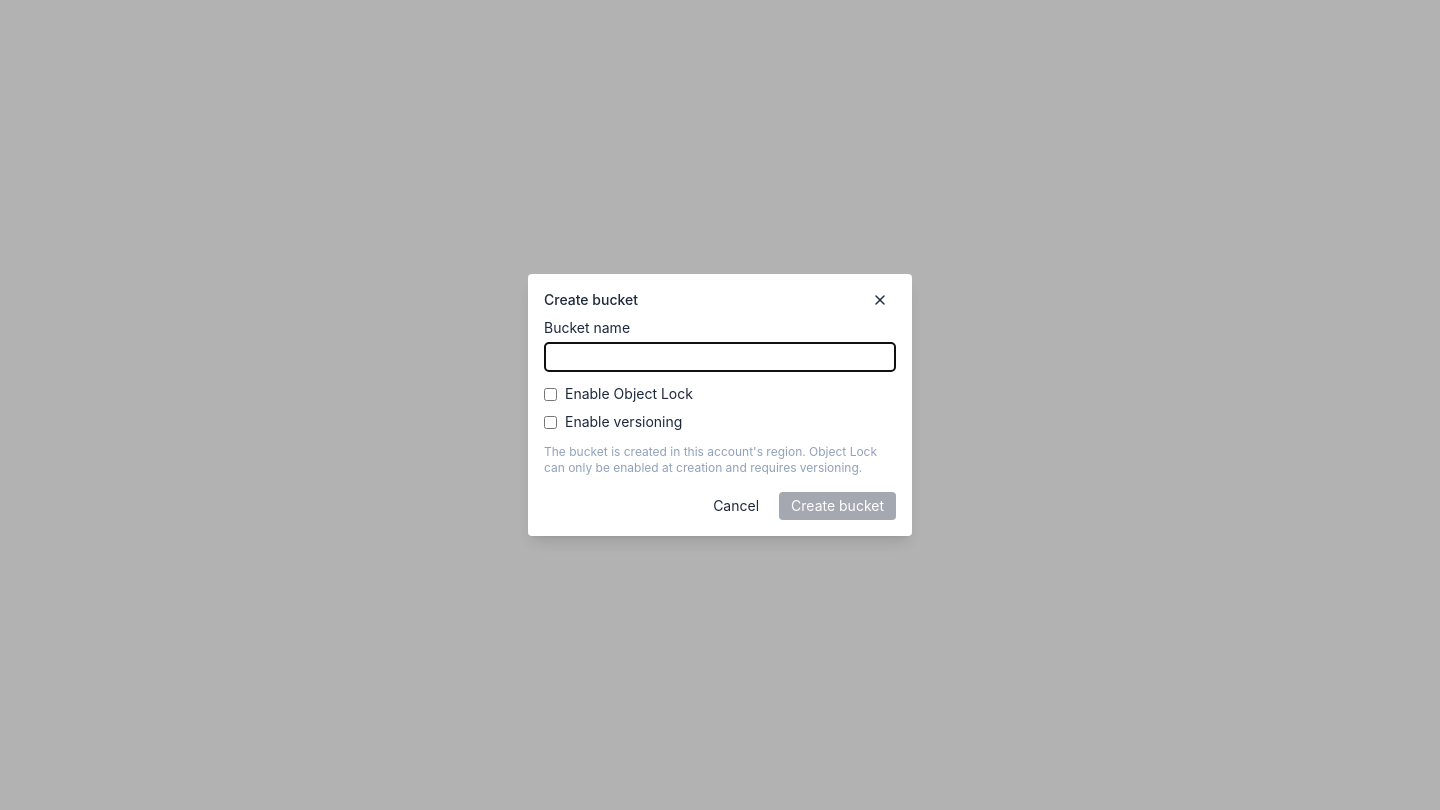
CreateBucketDialog › checking Object Lock checks and disables versioning
Check: the checkbox labelled "Enable versioning" is not checked, box [544,416,557,428]
Click the checkbox labelled "Enable Object Lock" at (550, 394), box [544,388,557,400]
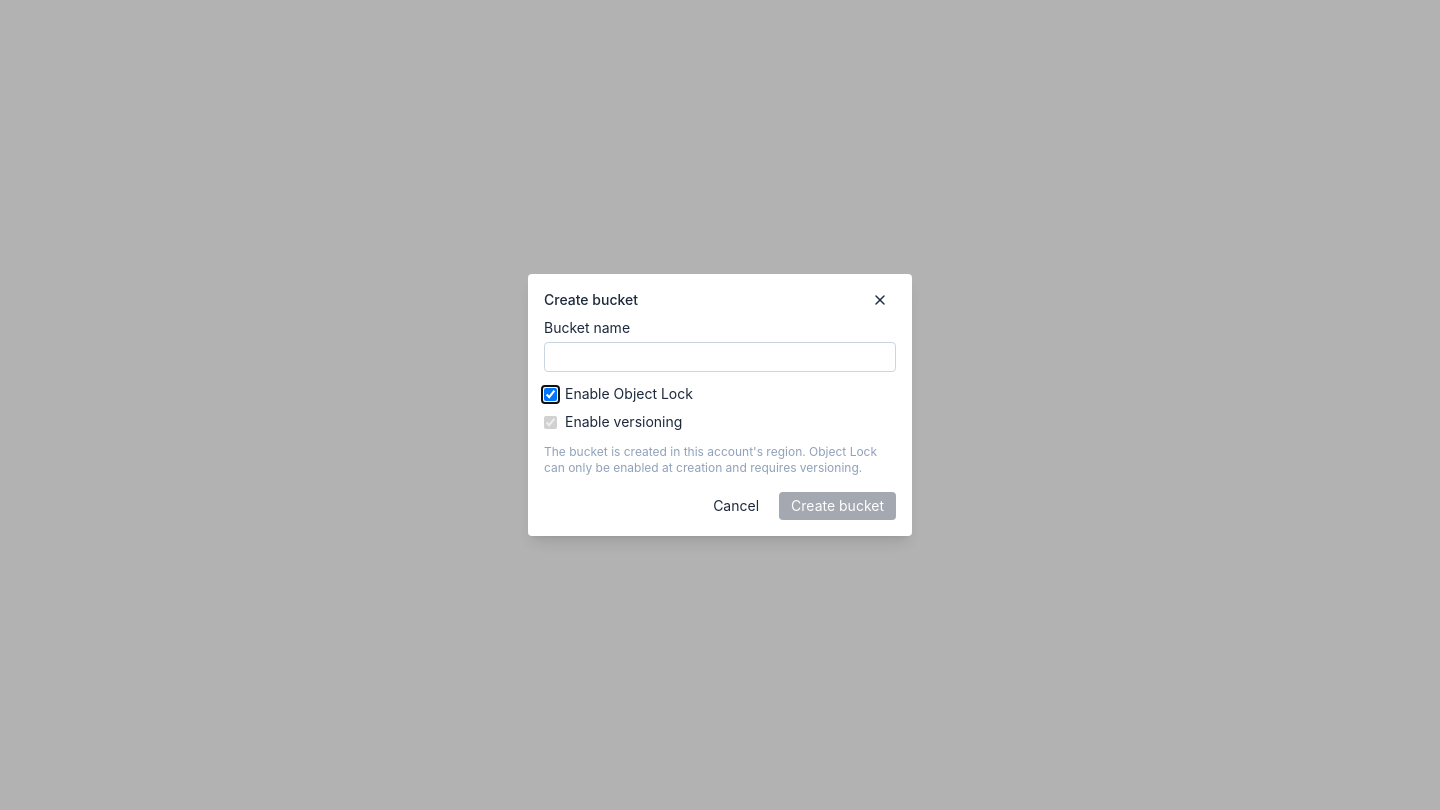
Check: the checkbox labelled "Enable versioning" is checked, box [544,416,557,428]
Check: the checkbox labelled "Enable versioning" is disabled, box [544,416,557,428]
